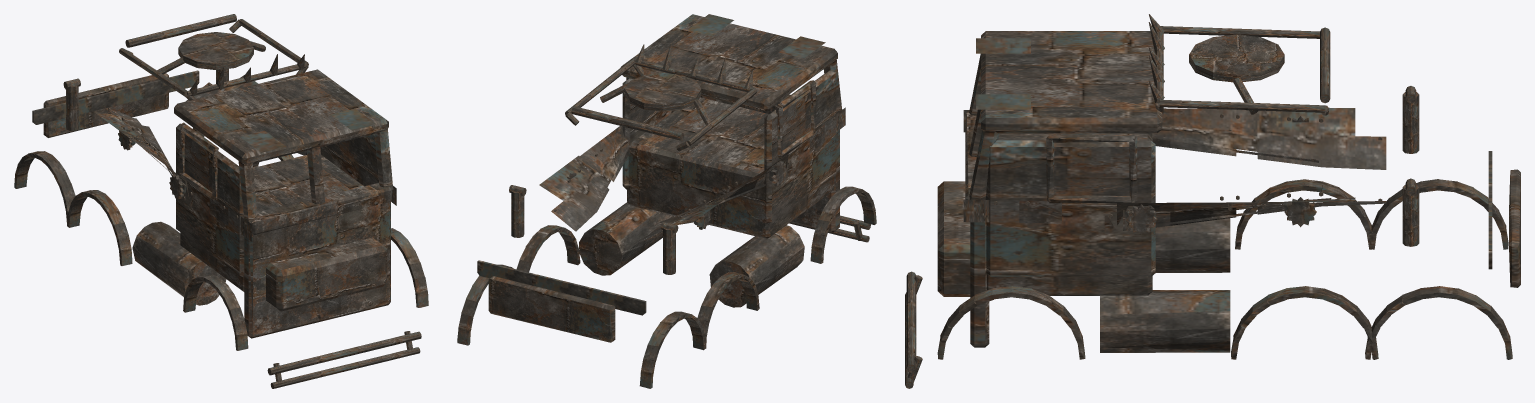
Rendered from longhaul.glb.
3 renders of one model, left to right at view 1: azimuth 30°, elevation 25°; view 2: azimuth 150°, elevation 25°; view 3: azimuth 270°, elevation 25°, orthographic. The views are drawn at different scales.
Parts seen in each view (by area): view 1: kit-full-plating-painted-metal, kit-turret-mount-painted-metal, kit-bull-bar-painted-metal, kit-cage-painted-metal, warlord-crossbar, kit-scrapper-painted-metal, kit-stack-0-painted-metal, kit-plate-2-painted-metal, kit-plate-3-painted-metal, kit-crown-painted-metal; view 2: kit-full-plating-painted-metal, kit-scrapper-painted-metal, kit-turret-mount-painted-metal, kit-cage-painted-metal, kit-raider-painted-metal, kit-plate-1-painted-metal, warlord-crossbar, kit-stack-1-painted-metal, kit-stack-0-painted-metal, kit-bull-bar-painted-metal, kit-crown-painted-metal, kit-plate-2-painted-metal (+1 smaller); view 3: kit-full-plating-painted-metal, kit-scrapper-painted-metal, kit-raider-painted-metal, kit-turret-mount-painted-metal, kit-cage-painted-metal, kit-plate-3-painted-metal, kit-plate-0-painted-metal, kit-bull-bar-painted-metal, kit-stack-0-painted-metal, kit-stack-1-painted-metal, warlord-crossbar, kit-crown-painted-metal (+2 smaller).
Part boxes in pixels (x1=…): kit-full-plating-painted-metal: x1=14, y1=69, x2=428, y2=350; kit-turret-mount-painted-metal: x1=157, y1=32, x2=265, y2=74; kit-bull-bar-painted-metal: x1=267, y1=331, x2=421, y2=388; kit-cage-painted-metal: x1=119, y1=19, x2=308, y2=100; warlord-crossbar: x1=125, y1=14, x2=236, y2=47; kit-scrapper-painted-metal: x1=116, y1=117, x2=306, y2=198; kit-stack-0-painted-metal: x1=63, y1=78, x2=80, y2=130; kit-plate-2-painted-metal: x1=209, y1=198, x2=251, y2=241; kit-plate-3-painted-metal: x1=94, y1=111, x2=152, y2=142; kit-crown-painted-metal: x1=189, y1=54, x2=304, y2=95; kit-full-plating-painted-metal: x1=457, y1=14, x2=876, y2=388; kit-scrapper-painted-metal: x1=561, y1=126, x2=788, y2=223; kit-turret-mount-painted-metal: x1=600, y1=73, x2=710, y2=124; kit-cage-painted-metal: x1=565, y1=58, x2=756, y2=151; kit-raider-painted-metal: x1=551, y1=143, x2=793, y2=244; kit-plate-1-painted-metal: x1=539, y1=155, x2=598, y2=213; warlord-crossbar: x1=571, y1=106, x2=684, y2=140; kit-stack-1-painted-metal: x1=509, y1=185, x2=526, y2=237; kit-stack-0-painted-metal: x1=660, y1=222, x2=678, y2=274; kit-bull-bar-painted-metal: x1=789, y1=215, x2=870, y2=242; kit-crown-painted-metal: x1=635, y1=44, x2=752, y2=89; kit-plate-2-painted-metal: x1=809, y1=107, x2=845, y2=153; kit-full-plating-painted-metal: x1=937, y1=31, x2=1520, y2=359; kit-scrapper-painted-metal: x1=1117, y1=108, x2=1331, y2=225; kit-raider-painted-metal: x1=1104, y1=126, x2=1386, y2=233; kit-turret-mount-painted-metal: x1=1189, y1=34, x2=1284, y2=114; kit-cage-painted-metal: x1=1155, y1=26, x2=1328, y2=115; kit-plate-3-painted-metal: x1=1257, y1=107, x2=1355, y2=156; kit-plate-0-painted-metal: x1=963, y1=199, x2=1061, y2=223; kit-bull-bar-painted-metal: x1=905, y1=271, x2=922, y2=388; kit-stack-0-painted-metal: x1=1402, y1=86, x2=1419, y2=153; kit-stack-1-painted-metal: x1=1402, y1=178, x2=1419, y2=246; warlord-crossbar: x1=1320, y1=27, x2=1330, y2=103; kit-crown-painted-metal: x1=1148, y1=14, x2=1164, y2=102.
Bounding box in the file's own units: 3.16 × 3.82 × 6.97.
1 material, 1 textured.
